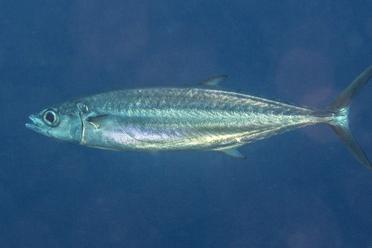Scombridae -Tunas-: (20, 57, 372, 176)
